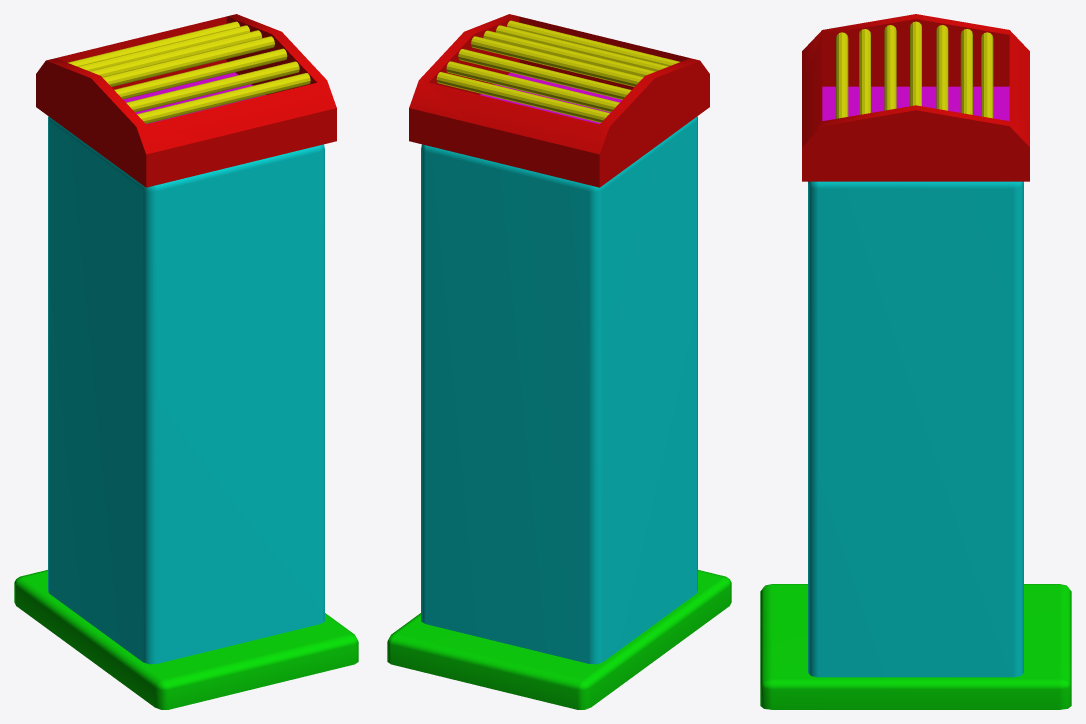
File: SM_ashtray.fbx
3 views of the same model, side by side, from view 1: azimuth 30°, elevation 25°; view 2: azimuth 150°, elevation 25°; view 3: azimuth 270°, elevation 25° (orthographic). The views are drawn at different scales.
Visible parts, largest first — view 1: AshTray; view 2: AshTray; view 3: AshTray.
Part boxes in pixels (box(x1,y1,x2,y2)): AshTray: box(14, 14, 358, 709); AshTray: box(387, 14, 731, 709); AshTray: box(760, 14, 1071, 709).
Bounding box in the file's own units: 0.8197 × 2.24 × 1.06.
